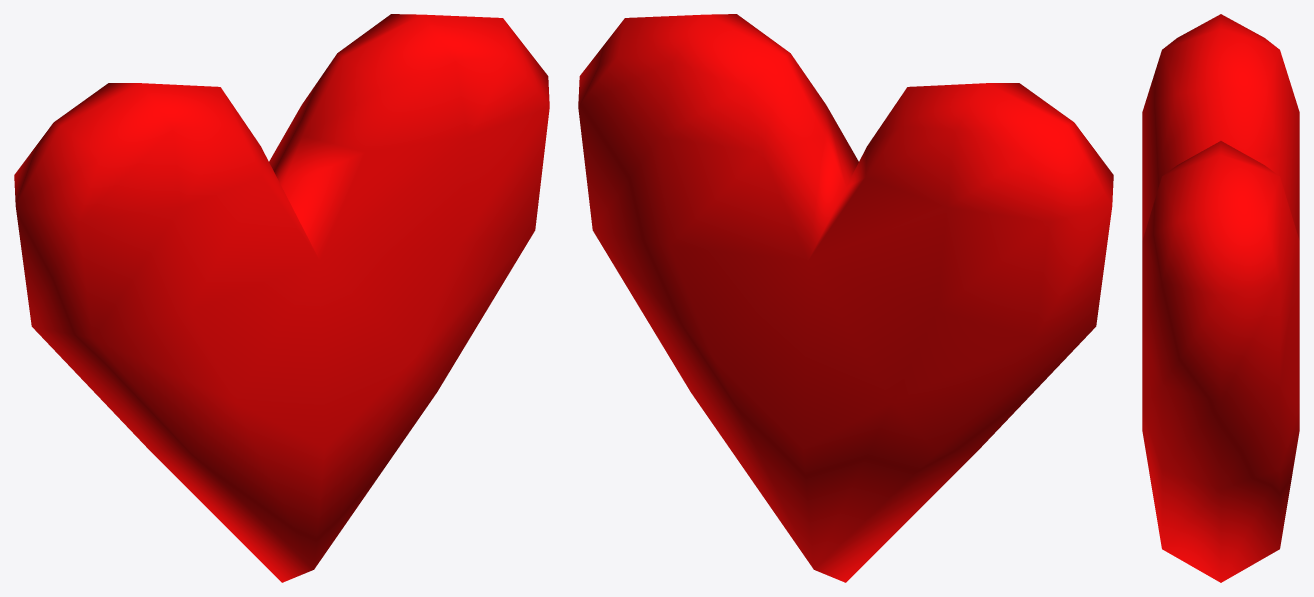
Rendered from Heart.fbx.
3 views of the same model, side by side, from view 1: azimuth 30°, elevation 25°; view 2: azimuth 150°, elevation 25°; view 3: azimuth 270°, elevation 25° (orthographic). The views are drawn at different scales.
Visible parts, largest first — view 1: Heart; view 2: Heart; view 3: Heart.
Boxes of the visible parts, x1,y1,x2,y2 form: Heart: (14,14,549,582); Heart: (578,14,1113,582); Heart: (1142,14,1299,582).
Bounding box in the file's own units: 1.26 × 1.21 × 0.352.
